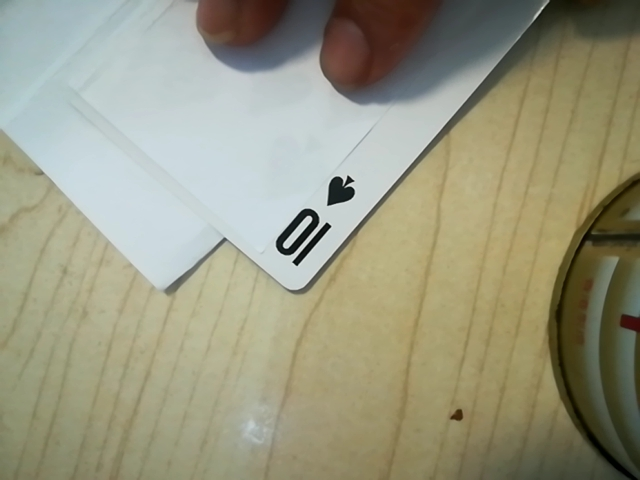ht 10: (258, 158, 373, 283)
